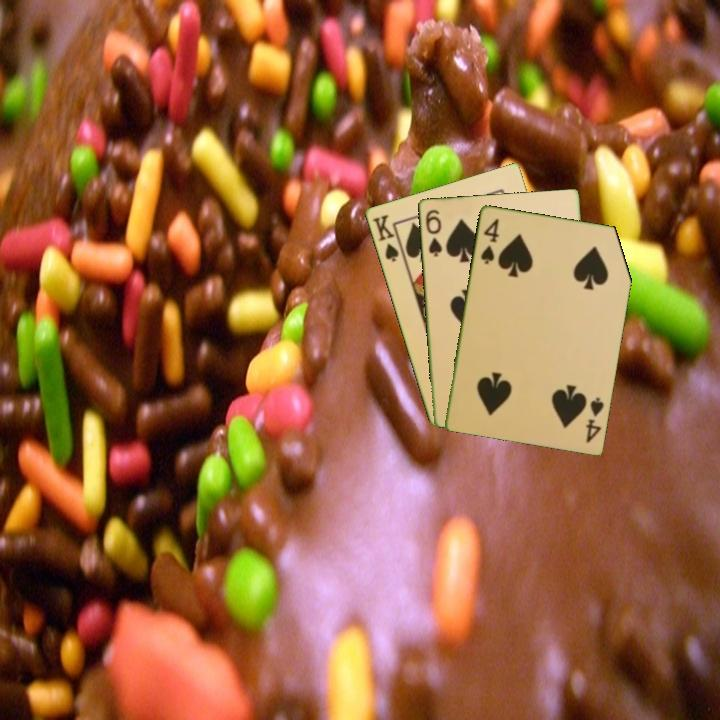4s: (477, 215, 502, 267), (582, 393, 606, 446)
6s: (422, 206, 445, 259)
Ks: (369, 211, 401, 265)
